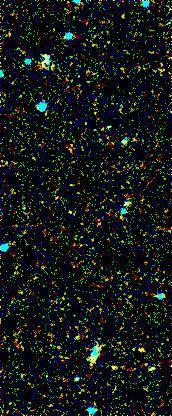star: (31, 43, 61, 73)
